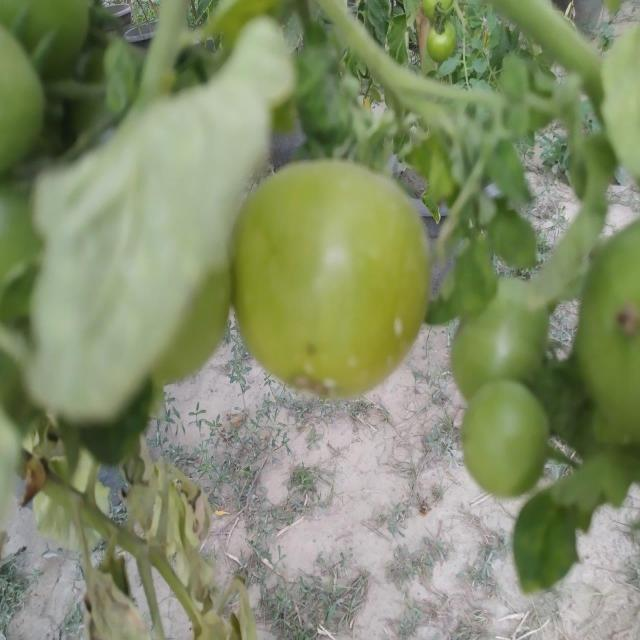Unripe: (238, 158, 430, 402), (462, 380, 542, 493)
